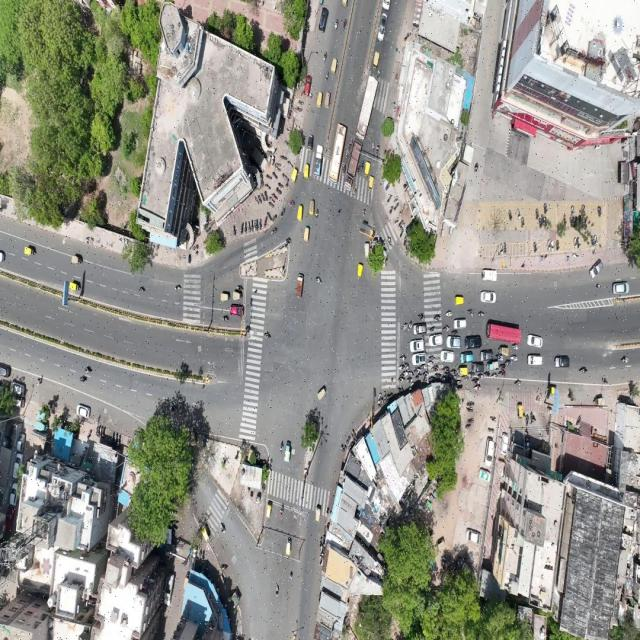3W: (282, 534, 296, 560), (197, 518, 210, 546), (352, 261, 366, 287), (22, 239, 38, 261), (68, 248, 84, 268), (316, 381, 329, 405), (265, 500, 277, 522), (313, 500, 323, 526), (369, 51, 382, 71), (367, 174, 377, 196), (68, 276, 80, 294), (329, 56, 339, 76), (284, 442, 293, 464), (302, 162, 312, 181), (304, 132, 314, 150), (295, 204, 304, 224), (217, 286, 228, 302), (454, 293, 466, 307), (315, 90, 323, 110), (324, 91, 332, 111), (498, 345, 511, 357), (364, 160, 373, 177), (309, 196, 316, 216), (232, 291, 244, 302), (303, 224, 310, 242), (458, 365, 468, 377), (291, 168, 299, 182), (518, 404, 524, 420)
Bus: (328, 120, 348, 190), (485, 319, 522, 344)
Cars: (6, 478, 22, 510), (8, 455, 28, 478), (377, 13, 390, 44), (13, 427, 29, 451), (484, 436, 496, 468), (588, 260, 607, 280), (314, 143, 324, 179), (76, 401, 92, 421), (8, 381, 28, 397), (319, 5, 329, 34), (478, 289, 496, 305), (303, 73, 314, 99), (526, 353, 544, 368), (463, 334, 482, 348), (482, 267, 498, 283), (526, 332, 542, 348), (465, 526, 481, 542), (612, 281, 630, 294), (438, 349, 456, 362), (445, 334, 461, 348), (412, 322, 428, 336), (409, 338, 425, 351), (230, 304, 246, 316), (554, 356, 570, 368), (452, 318, 468, 330), (478, 349, 494, 361), (427, 334, 442, 346), (458, 352, 474, 362), (470, 362, 486, 372), (410, 355, 427, 364)
M2W: (170, 280, 187, 296), (270, 580, 282, 600), (316, 271, 326, 289), (74, 374, 90, 385), (278, 497, 286, 518), (136, 281, 146, 297), (82, 361, 95, 373), (264, 330, 274, 343), (332, 17, 340, 33), (578, 365, 589, 376), (342, 16, 349, 32), (429, 323, 439, 334), (278, 438, 284, 456), (270, 225, 279, 237), (320, 50, 328, 63), (386, 235, 394, 248), (277, 179, 284, 193), (620, 356, 629, 366), (514, 378, 523, 388), (417, 312, 426, 322), (222, 312, 230, 323), (263, 216, 269, 230), (288, 197, 295, 209), (487, 425, 496, 434), (231, 223, 236, 239), (474, 383, 482, 393), (252, 195, 258, 208), (347, 135, 353, 148), (370, 140, 375, 155), (324, 71, 330, 83), (507, 210, 513, 222), (444, 309, 453, 317), (434, 313, 442, 322), (432, 363, 440, 372), (443, 323, 451, 332), (265, 172, 272, 182), (280, 206, 285, 220), (533, 242, 538, 256), (467, 306, 474, 316), (336, 206, 342, 217), (466, 406, 474, 414), (272, 192, 279, 201), (489, 413, 496, 422), (352, 188, 358, 198), (597, 204, 602, 216), (466, 399, 476, 405), (401, 321, 407, 331), (342, 162, 346, 176), (399, 354, 407, 361), (398, 364, 406, 371), (377, 67, 382, 78), (345, 148, 350, 159), (594, 235, 599, 246), (279, 154, 288, 160), (272, 171, 278, 180), (361, 208, 367, 217), (393, 195, 399, 204), (596, 283, 602, 292), (556, 238, 560, 251), (548, 236, 551, 253), (570, 205, 575, 215), (581, 202, 586, 212), (512, 344, 519, 351), (442, 365, 449, 372), (265, 182, 271, 190), (400, 228, 404, 240), (522, 216, 526, 228), (542, 203, 548, 211), (465, 424, 473, 430), (479, 310, 485, 318), (414, 368, 422, 374), (387, 191, 391, 202), (535, 207, 539, 218), (590, 235, 594, 246), (287, 161, 293, 168), (427, 359, 433, 366), (256, 216, 258, 236), (264, 191, 268, 201), (516, 208, 520, 218), (357, 163, 360, 176), (552, 238, 555, 251), (574, 237, 577, 250), (578, 236, 581, 249), (244, 220, 246, 238), (315, 209, 318, 221), (388, 207, 392, 216), (395, 216, 399, 225), (409, 369, 413, 378), (282, 173, 287, 180), (251, 219, 253, 236), (241, 222, 243, 238), (274, 162, 282, 166), (468, 417, 474, 422), (398, 378, 404, 383), (500, 242, 502, 256), (504, 242, 506, 256), (362, 160, 364, 173)
Truck: (352, 71, 380, 142), (345, 140, 366, 190), (291, 268, 305, 300)
